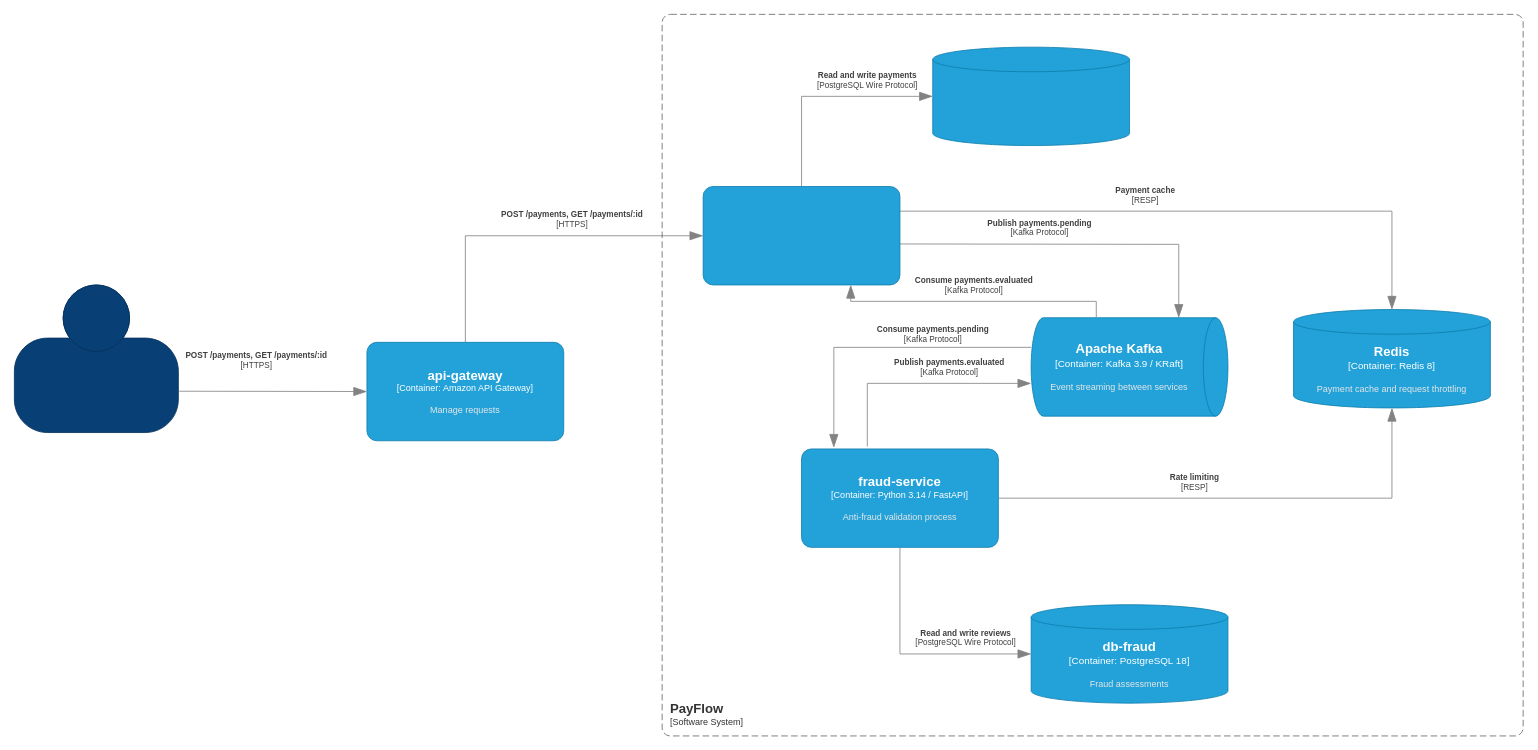
This 1538x750 diagram has some shape labels left out. The shapes that lost their labels are listed below. From the top down, each one's box as (x1, y1, x2, y2) in pixels, then its label:
(932, 46, 1130, 146): db-payment [Container: PostgreSQL 18] Payments and Statuses
(702, 186, 900, 285): payment-service [Container: Python 3.14 / FastAPI] Process transactions
(14, 284, 178, 433): Client [Person] Make payments and view transactions
